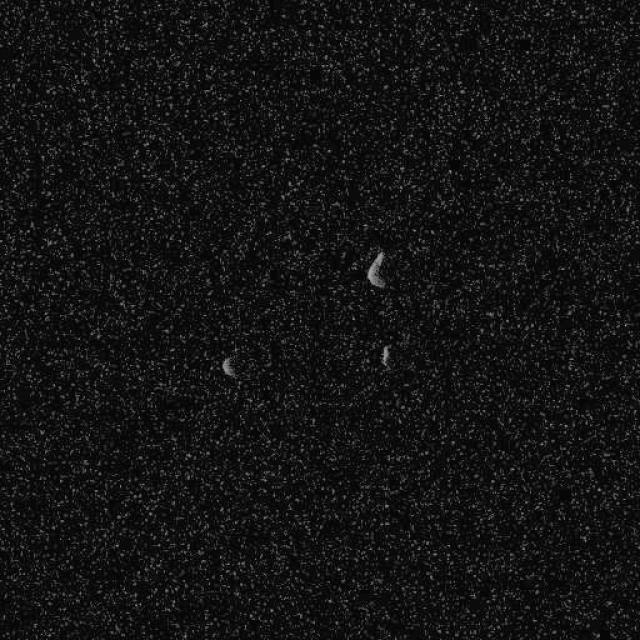D2: (365, 250, 387, 289), (220, 355, 238, 379), (379, 343, 391, 368)
